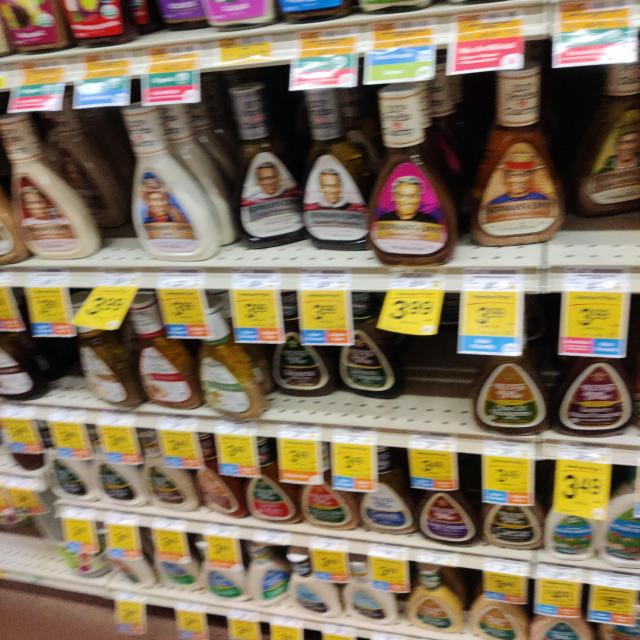Sauce: (466, 68, 578, 246), (360, 82, 460, 277), (120, 103, 226, 270), (0, 106, 112, 262), (220, 78, 315, 254), (289, 80, 384, 249), (466, 307, 553, 438), (551, 317, 640, 445), (190, 302, 275, 424), (127, 288, 206, 418), (328, 304, 407, 406), (298, 442, 369, 538), (79, 418, 147, 514), (481, 455, 541, 553), (416, 467, 482, 551), (185, 436, 249, 522), (246, 442, 301, 528), (142, 437, 198, 512)
